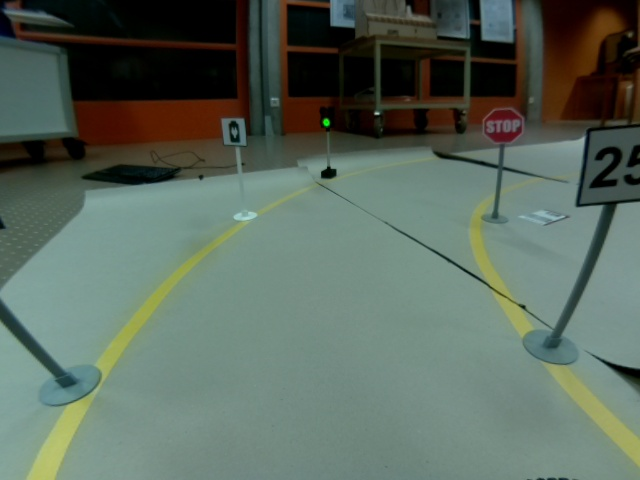battery: (219, 116, 249, 149)
speed25: (574, 123, 640, 210)
stop: (482, 107, 527, 145)
traffic light: (317, 103, 336, 132)
